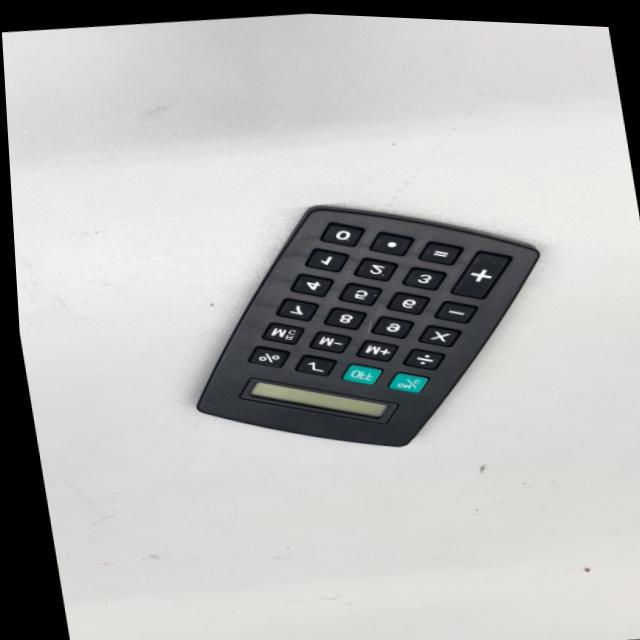calculator: (157, 175, 575, 474)
